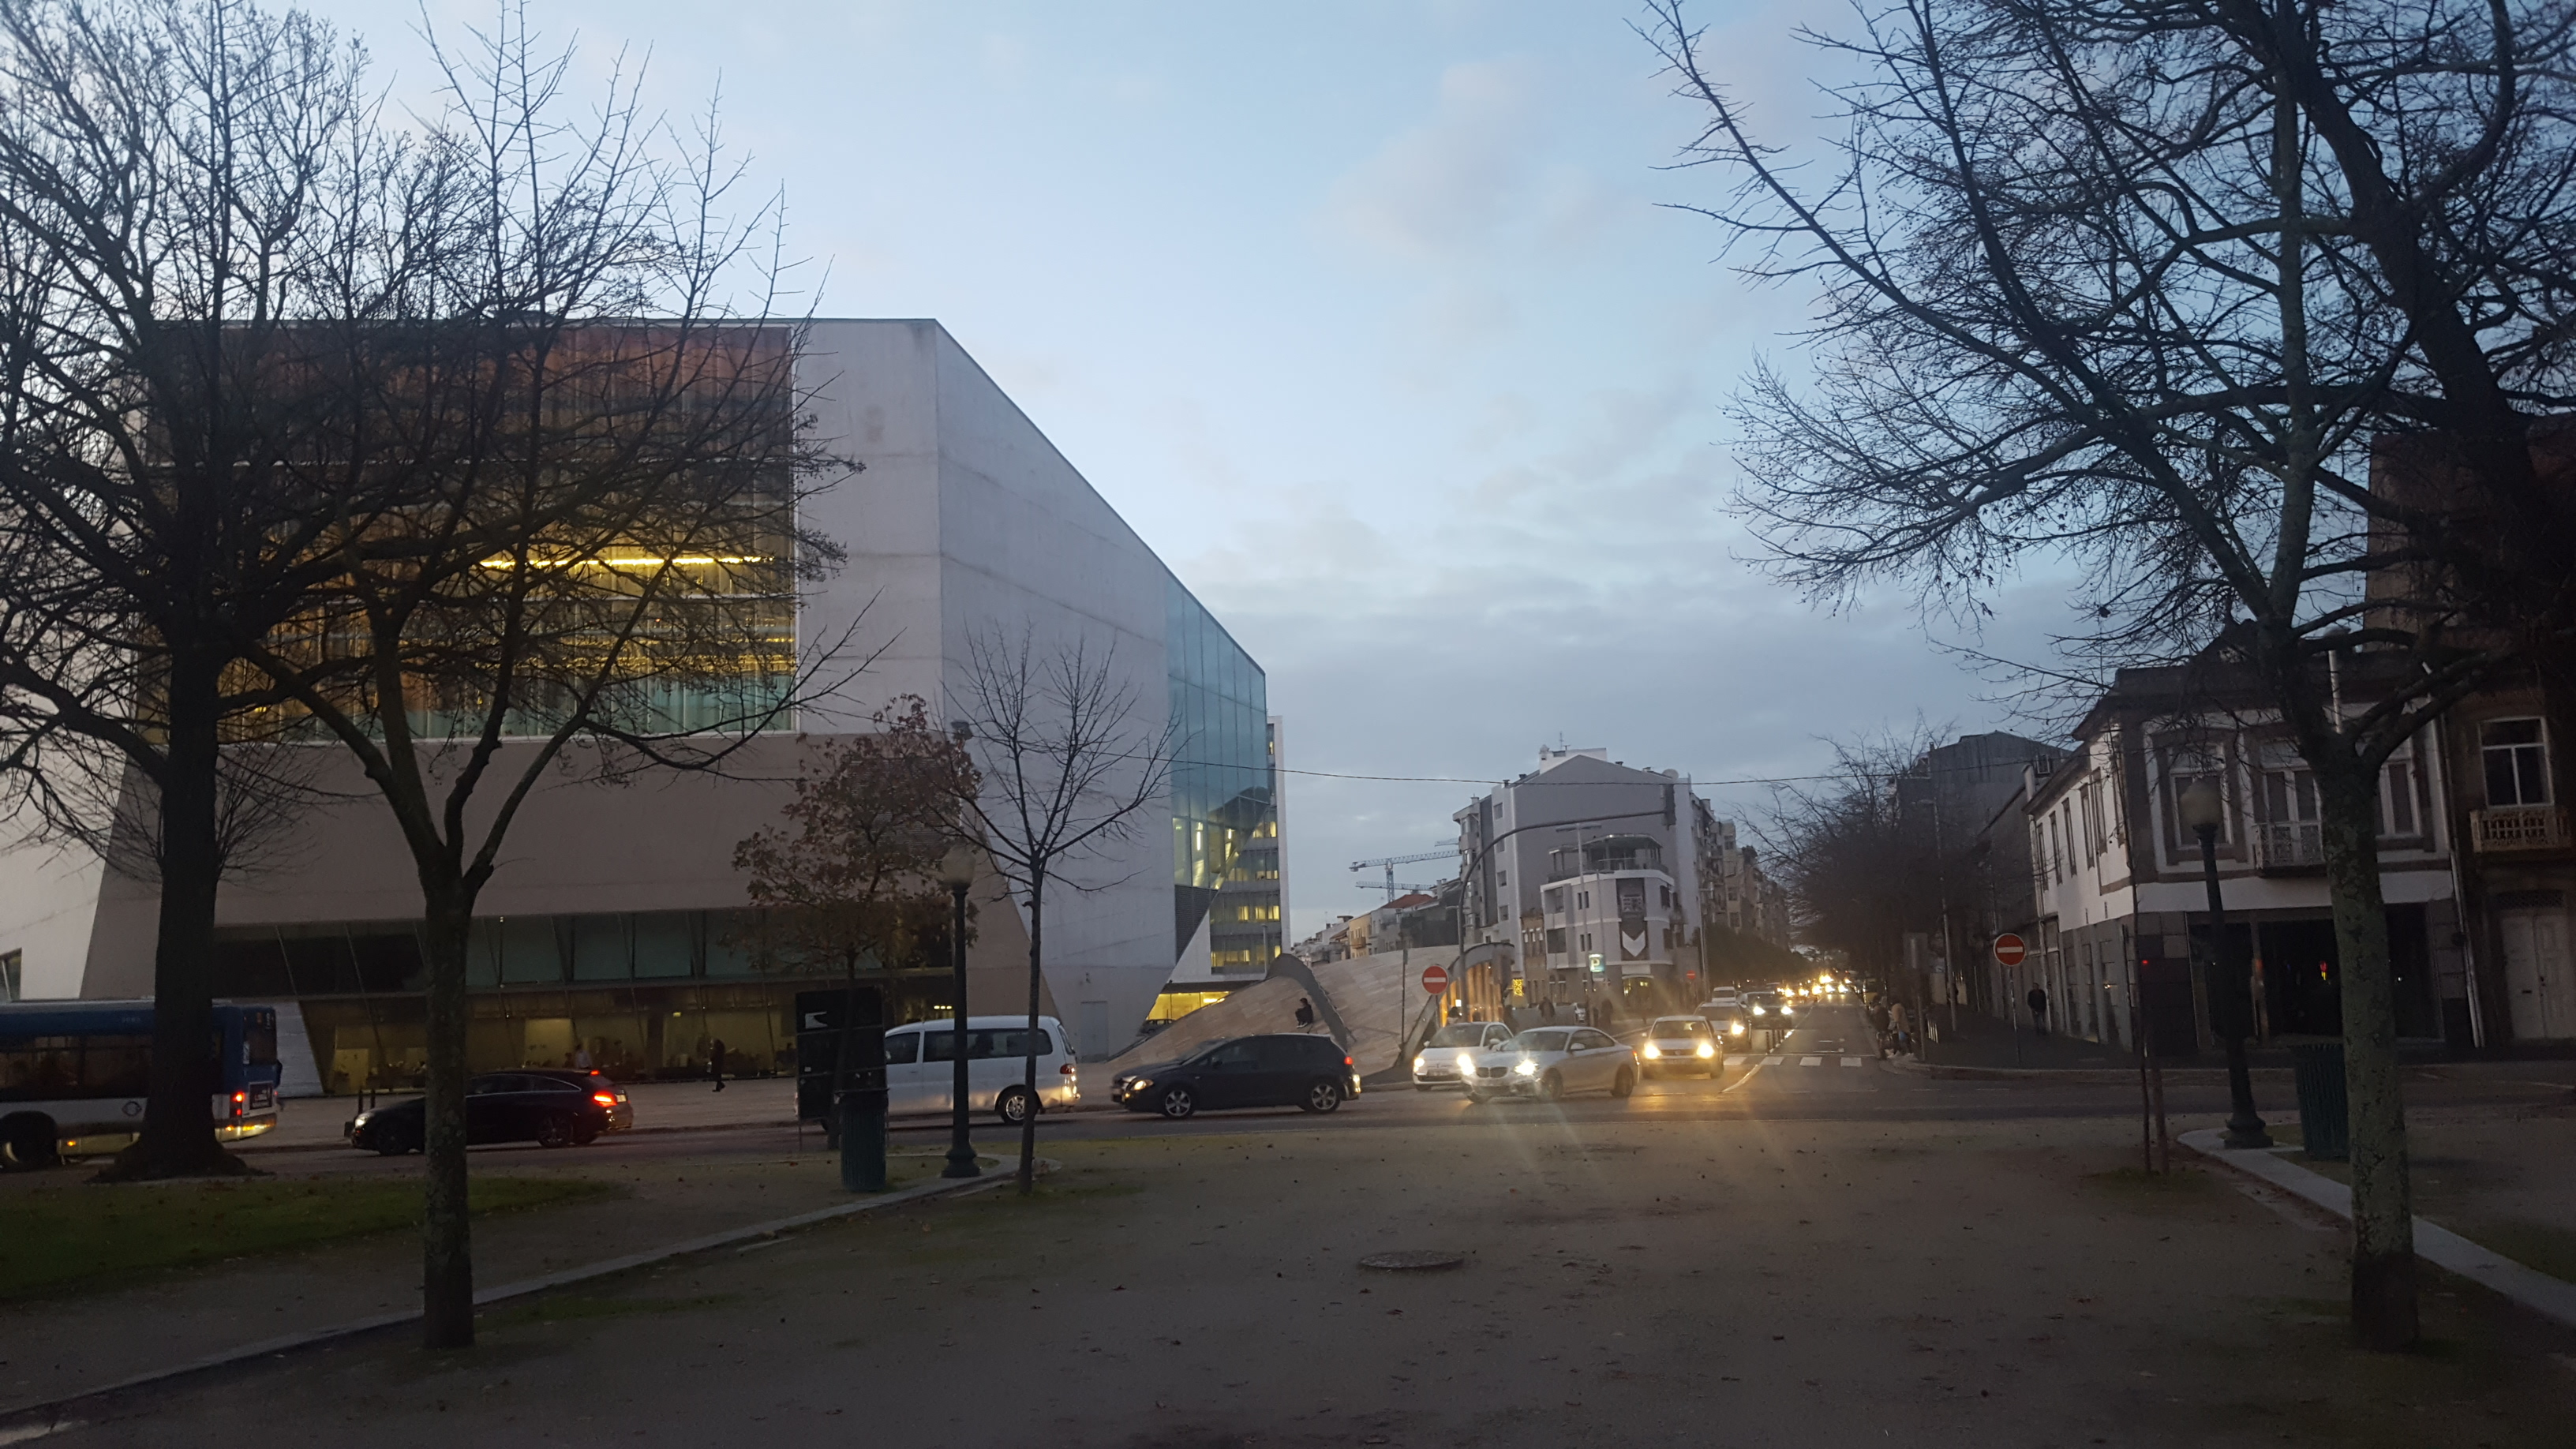musica: (0, 315, 1177, 725)
